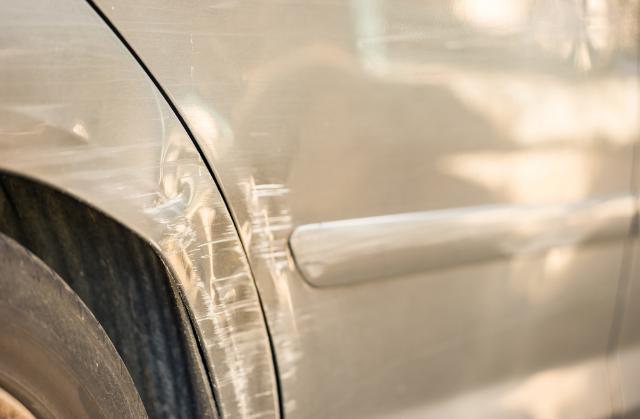scratch: (40, 146, 280, 419), (239, 171, 303, 419)
